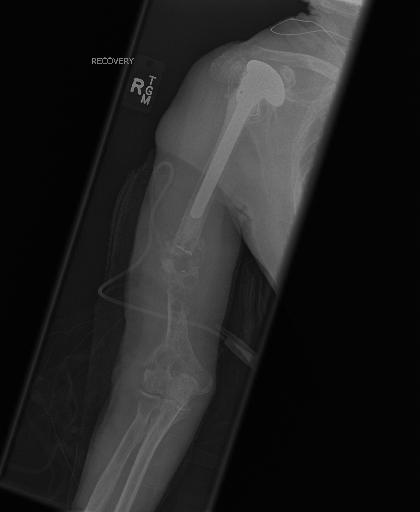humerus: (138, 217, 219, 343)
